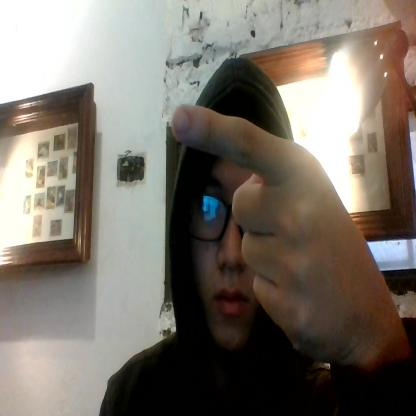right: (169, 102, 358, 355)
